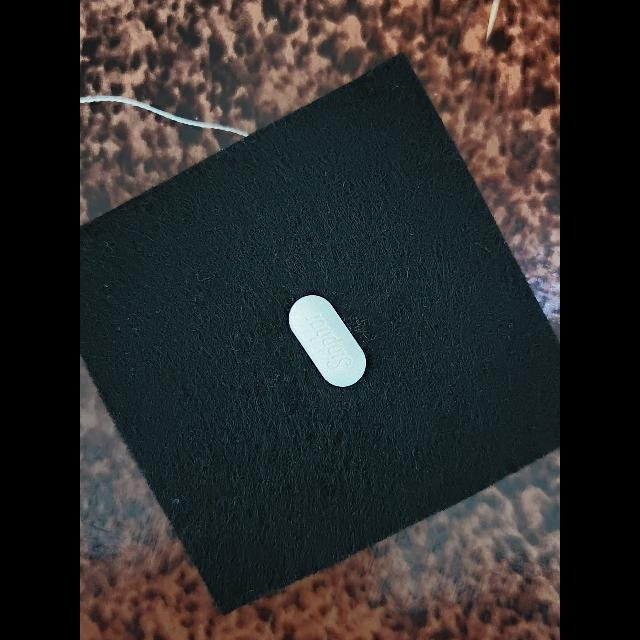Intact Pill: (288, 295, 366, 387)
